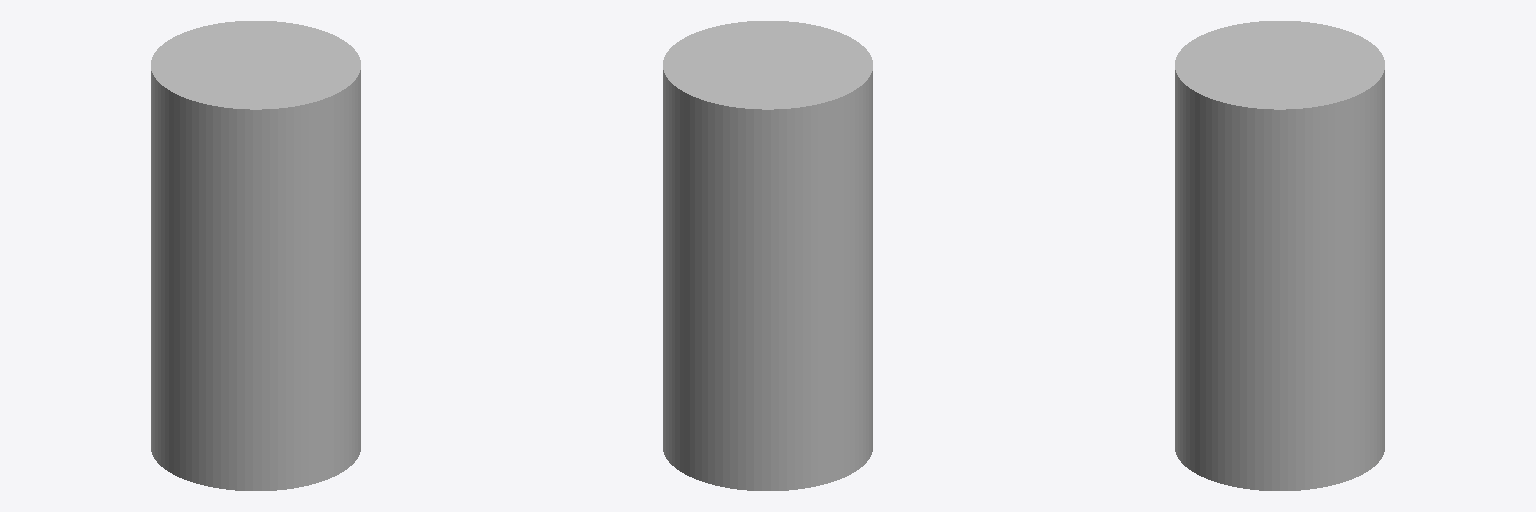
The model's file is red_round_peg_15in.obj.
The picture shows the model from 3 angles: view 1: azimuth 30°, elevation 25°; view 2: azimuth 150°, elevation 25°; view 3: azimuth 270°, elevation 25°; orthographic projection.
Parts seen in each view (by area): view 1: red_round_peg_15in; view 2: red_round_peg_15in; view 3: red_round_peg_15in.
Boxes of the visible parts, <box> form: red_round_peg_15in: <box>151,21,360,490</box>; red_round_peg_15in: <box>663,21,872,490</box>; red_round_peg_15in: <box>1175,21,1384,490</box>.
Size of the model in its own units: 0.0381 by 0.0762 by 0.0381.